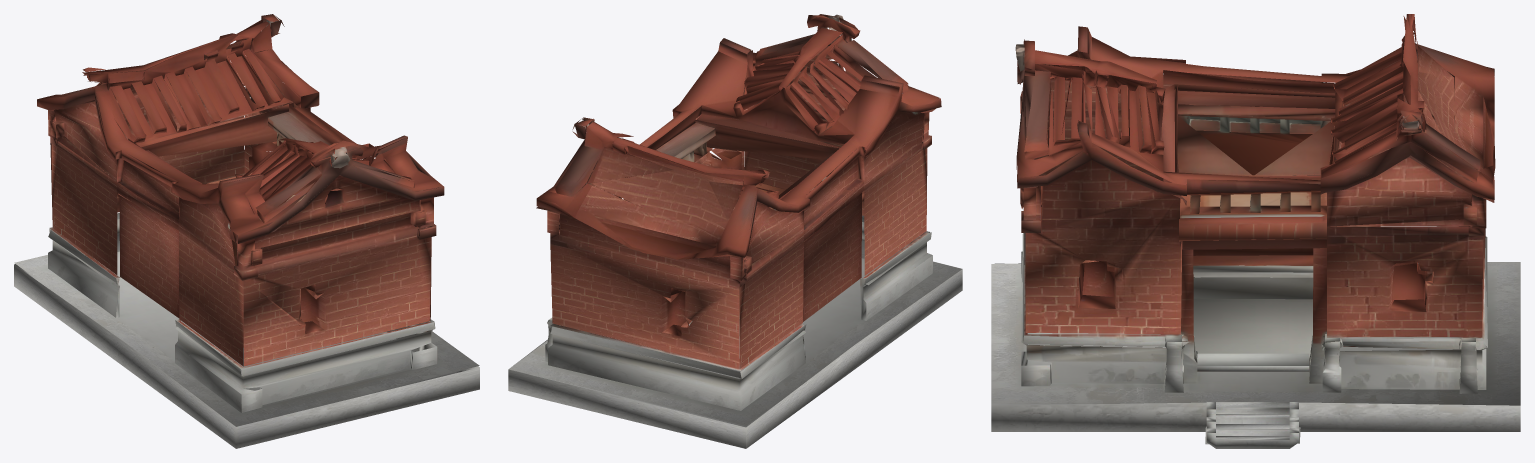
File: loc_qz_bld_mansion.glb
The picture shows the model from 3 angles, left to right: view 1: azimuth 30°, elevation 25°; view 2: azimuth 150°, elevation 25°; view 3: azimuth 270°, elevation 25°; orthographic projection. The views are drawn at different scales.
Visible parts, largest first — view 1: loc_qz_bld_mansion; view 2: loc_qz_bld_mansion; view 3: loc_qz_bld_mansion.
Boxes of the visible parts, <box> form: loc_qz_bld_mansion: <box>14,14,479,448</box>; loc_qz_bld_mansion: <box>508,14,962,448</box>; loc_qz_bld_mansion: <box>991,14,1520,448</box>.
Bounding box in the file's own units: 2.13 × 1.97 × 3.
1 material, 1 textured.
